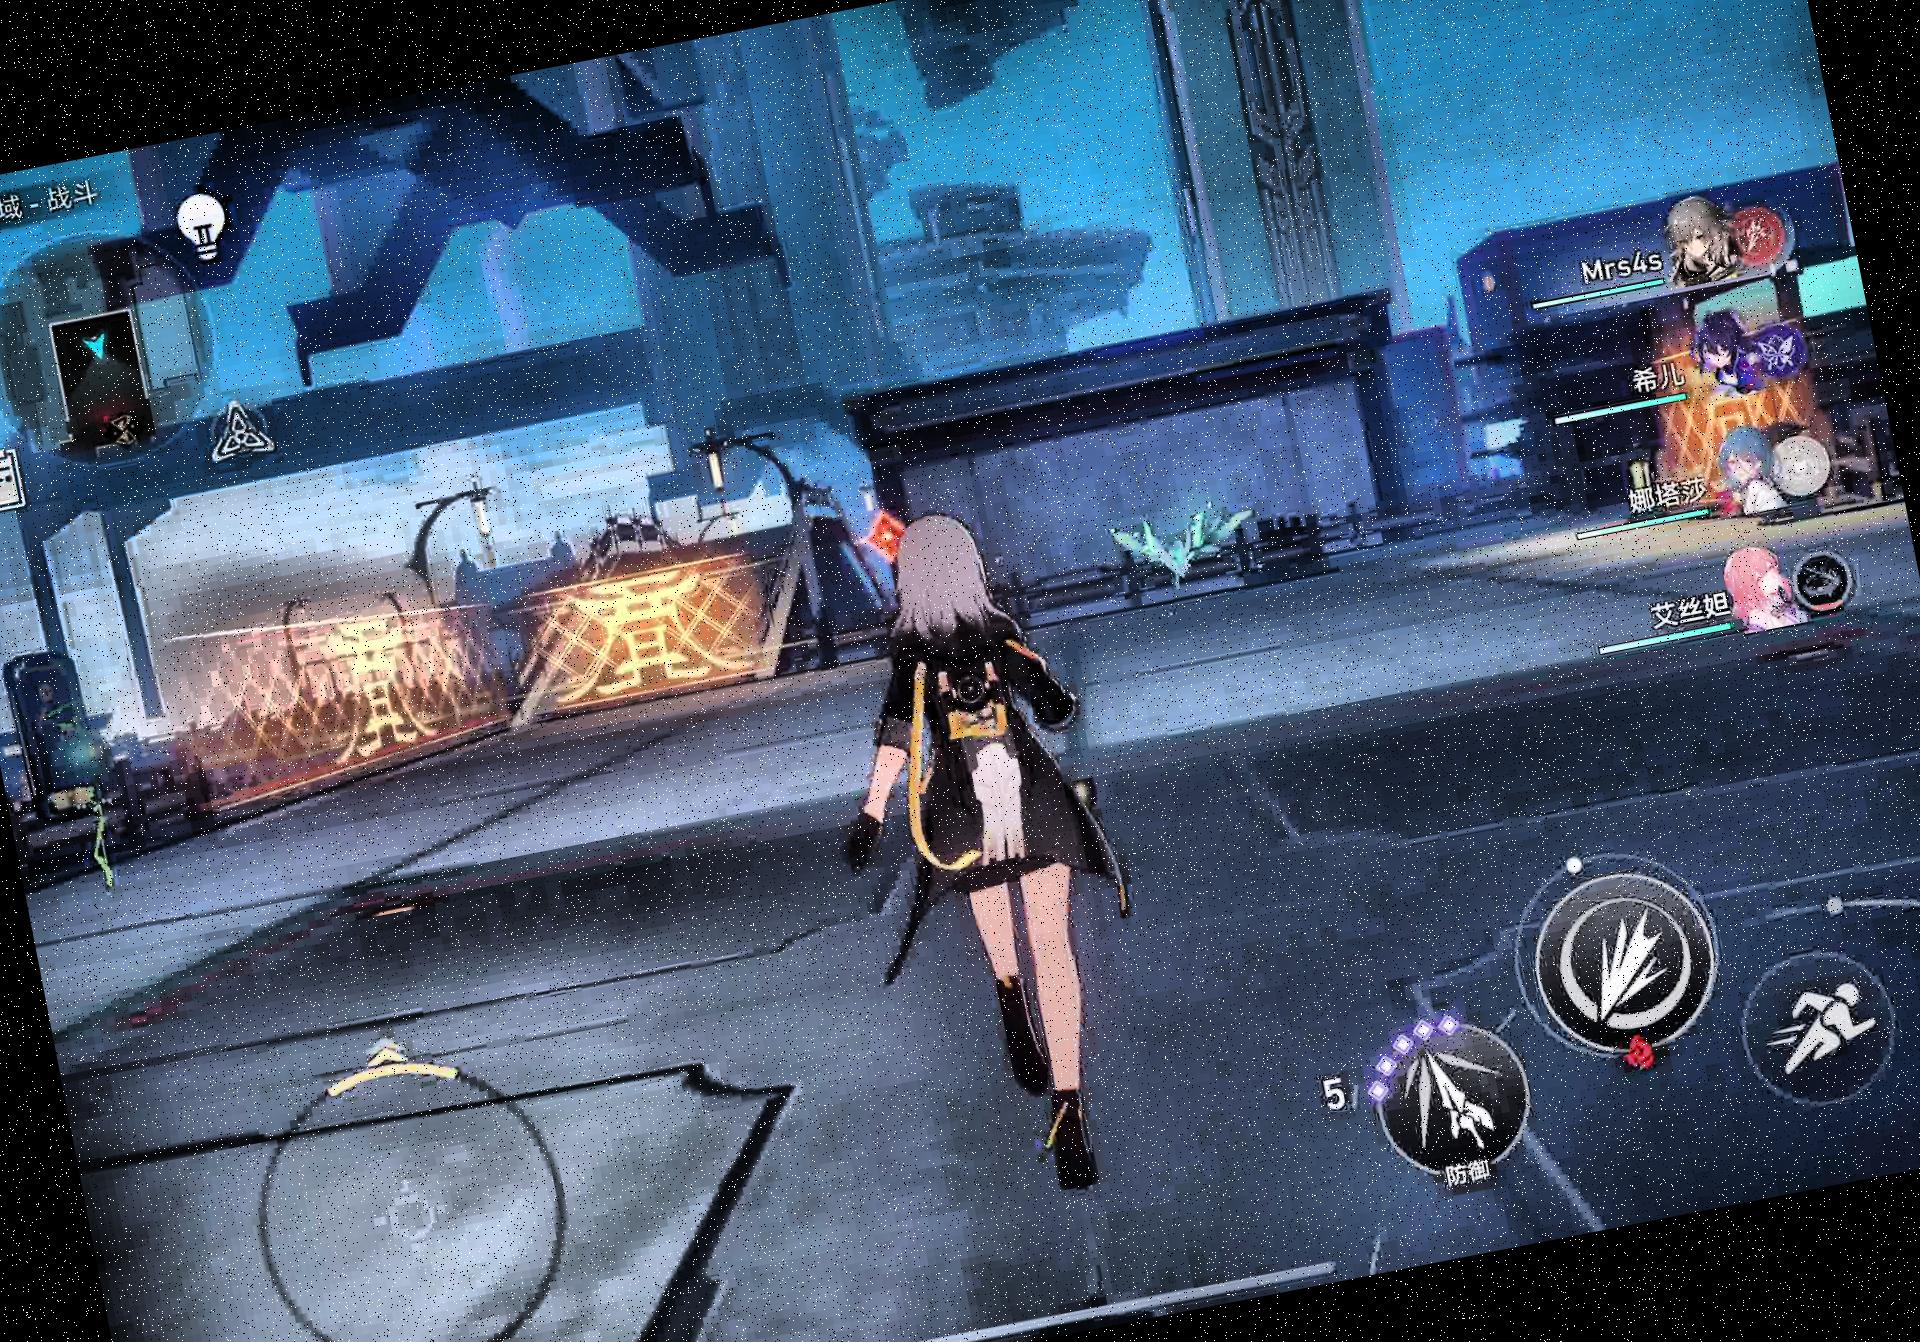BattleDoor: (849, 500, 915, 576)
Enemy: (1091, 489, 1265, 613)
Self: (810, 496, 1185, 1241)
